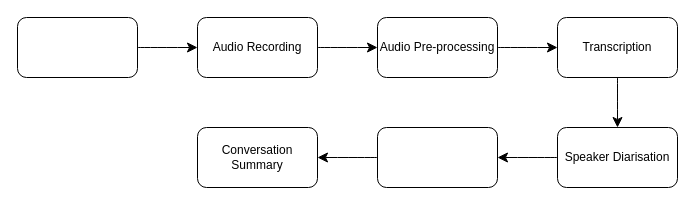
This 695x205 diagram has some shape labels left out. The centre of each missing label's shape, as x and y in pixels:
"Generative AI" belongs at pixel 437 157.
"Voice Activity Detection" belongs at pixel 77 47.
